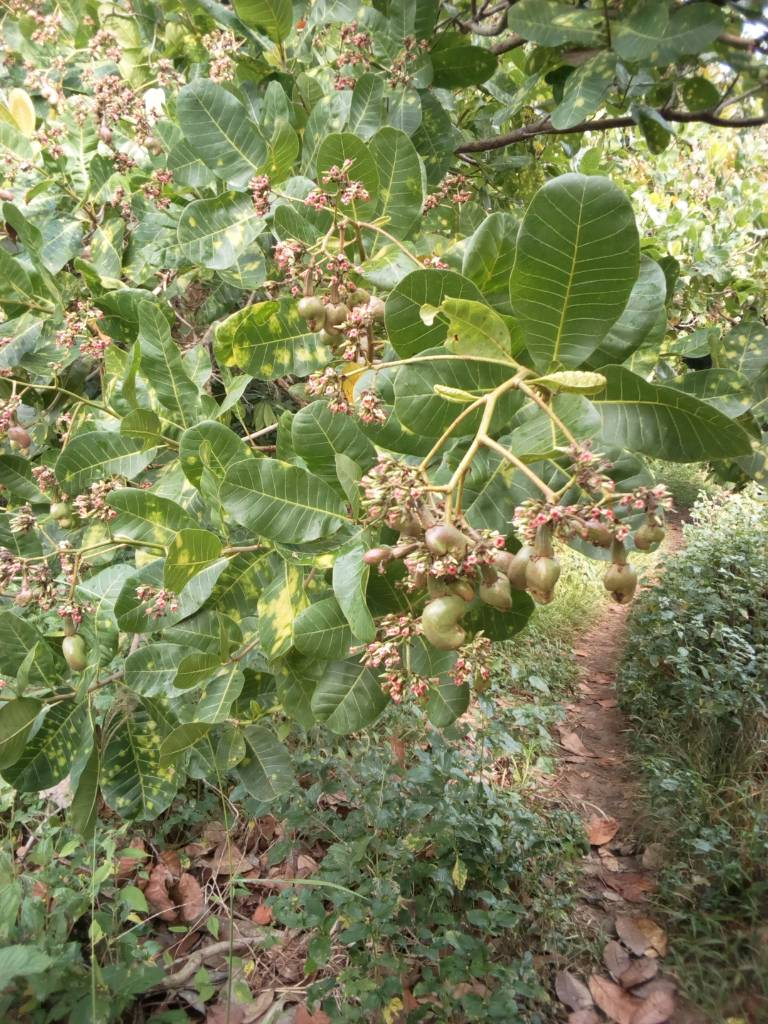Carence minérale: (213, 299, 363, 397), (222, 456, 349, 544), (8, 691, 108, 791), (96, 707, 175, 832), (361, 119, 436, 240), (54, 428, 190, 488), (249, 566, 319, 663), (543, 57, 625, 138), (154, 526, 236, 603), (190, 200, 266, 274), (77, 215, 148, 266)
